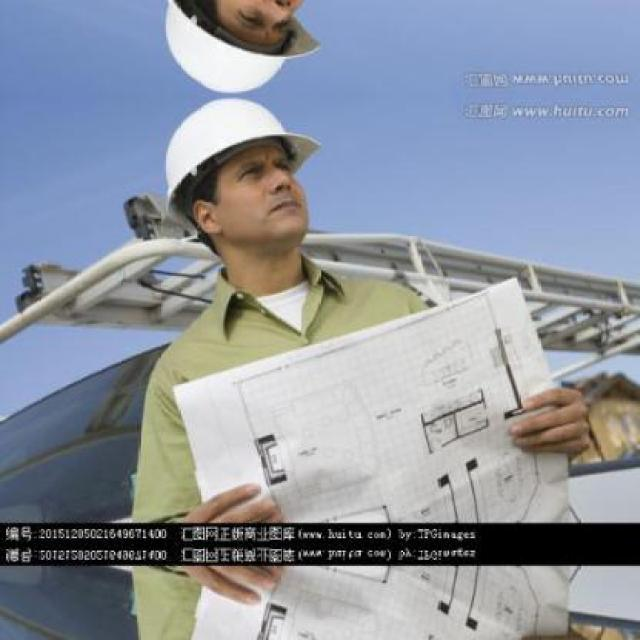helmet: (146, 96, 331, 278), (146, 0, 332, 96)
